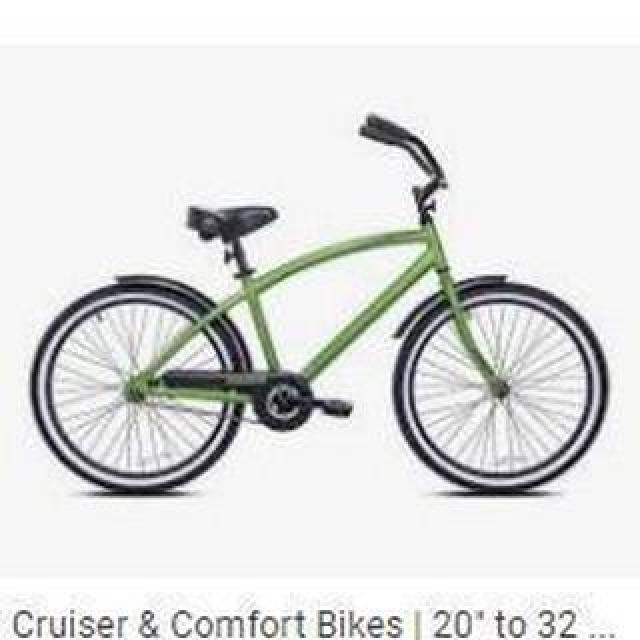Person: (21, 116, 613, 498)
